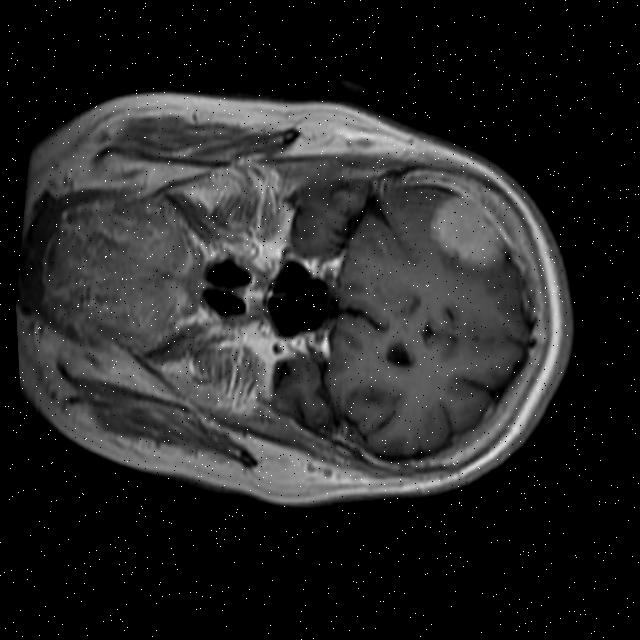Meningioma: (424, 192, 515, 270)
